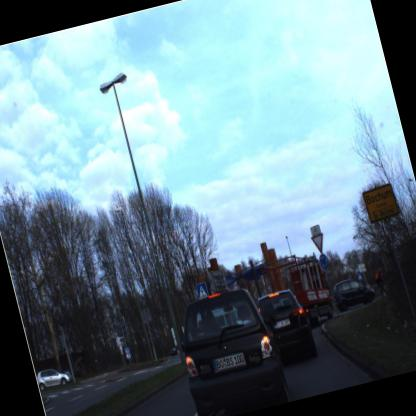mandatory: (314, 249, 334, 273), (193, 278, 211, 302)
other: (308, 231, 328, 253)
